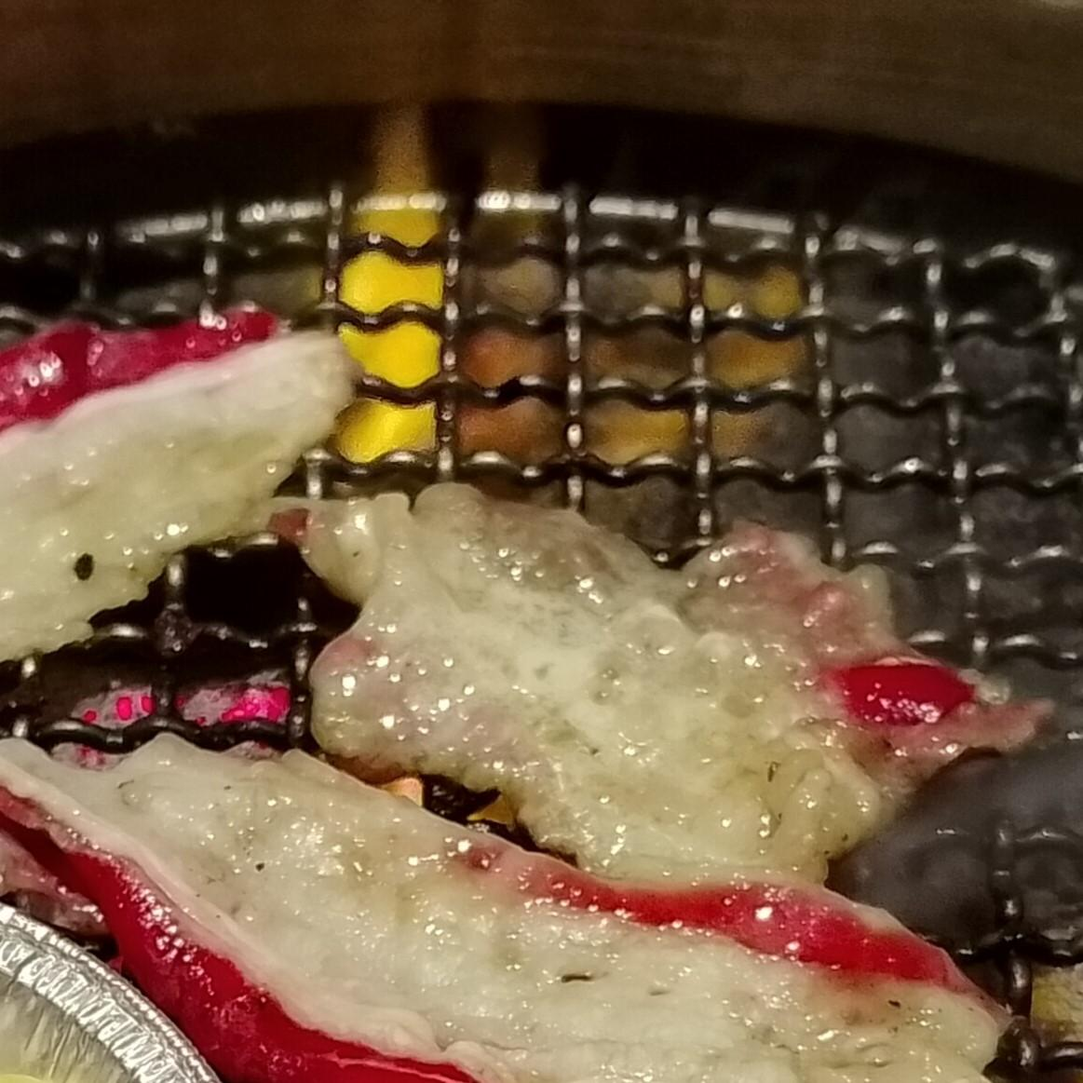Undercooked: (0, 729, 1010, 1082), (310, 486, 1015, 890), (0, 308, 359, 664)
